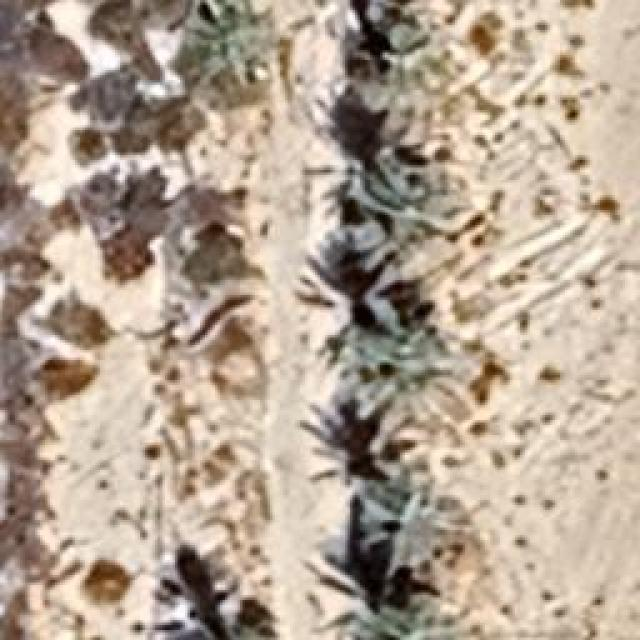PalmTree: (120, 125, 220, 608), (122, 63, 391, 191), (342, 332, 482, 432), (172, 2, 290, 106), (152, 559, 280, 640), (348, 20, 478, 98), (302, 238, 416, 322), (321, 412, 434, 494), (355, 492, 450, 570), (163, 599, 280, 640), (358, 608, 480, 638), (168, 617, 282, 640)
